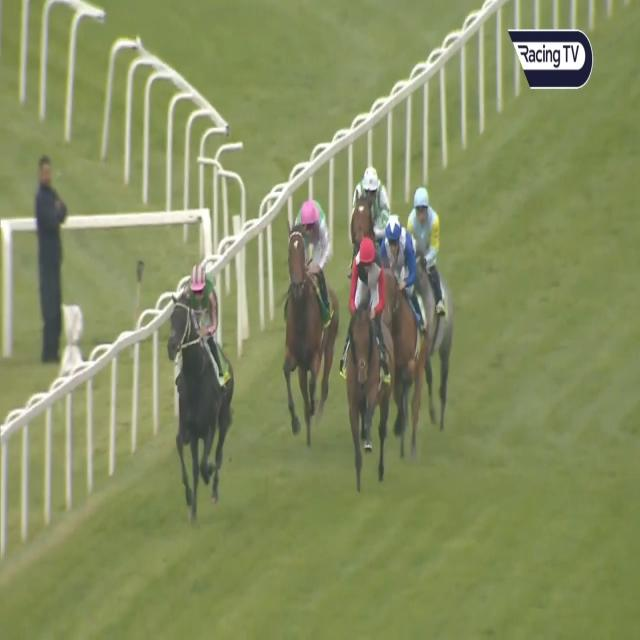horses-racing: (166, 263, 238, 491), (406, 184, 465, 437), (280, 194, 336, 429), (344, 237, 399, 476), (377, 213, 430, 451), (351, 166, 388, 252)
